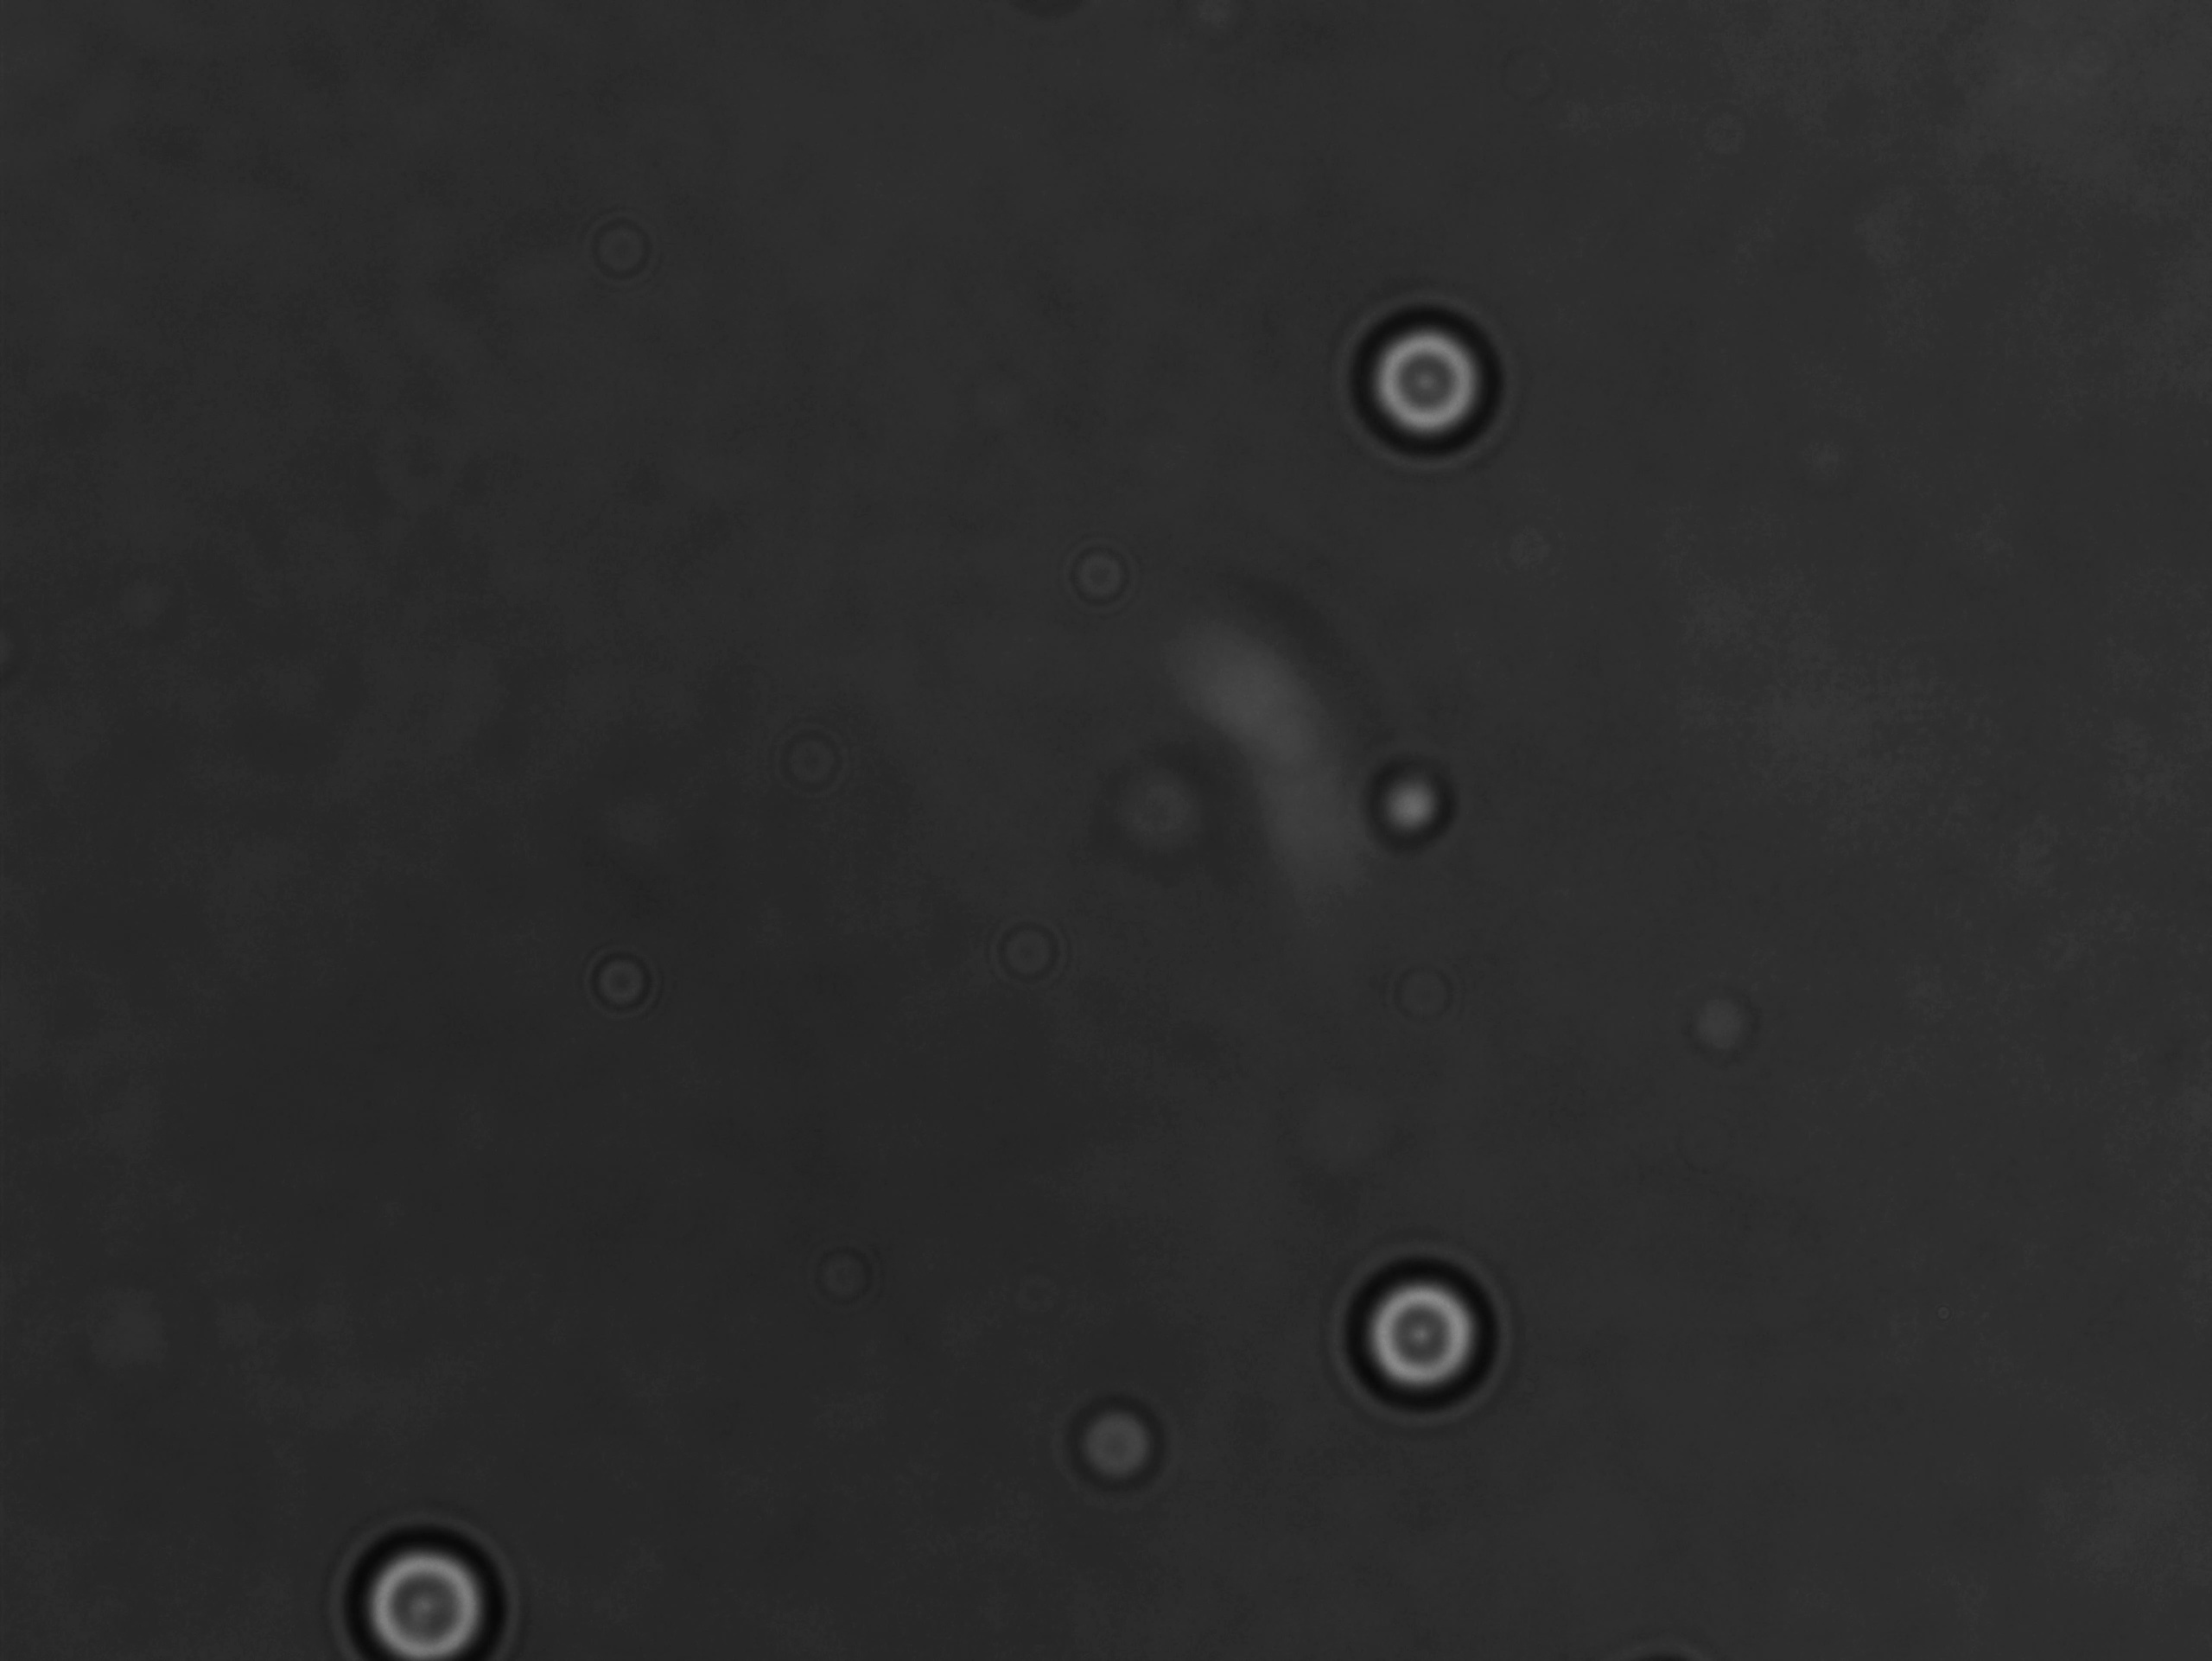depth:40: (1328, 1246, 1535, 1424), (1343, 293, 1526, 473), (317, 1520, 525, 1661)
